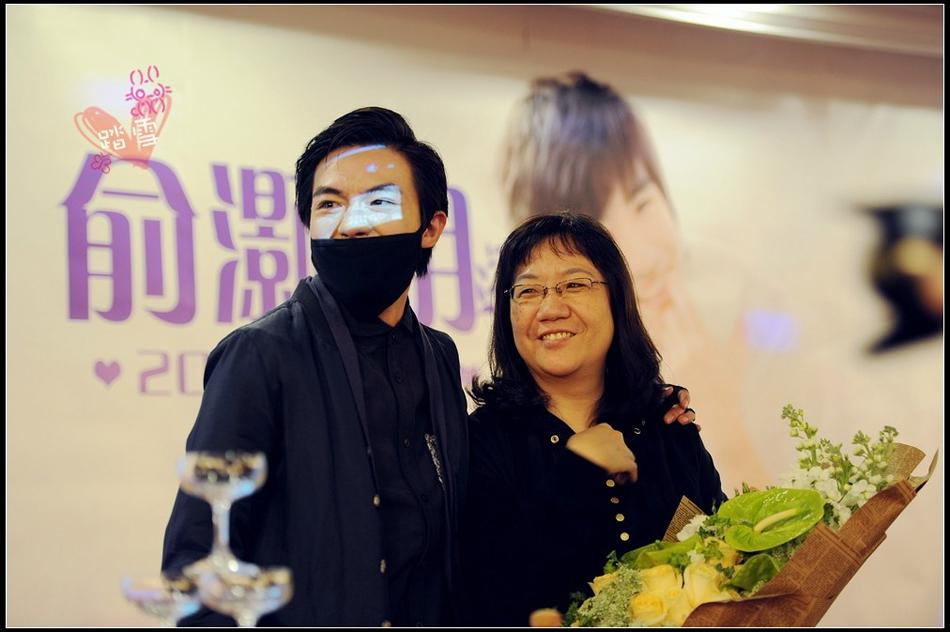NONE: (584, 178, 687, 327), (510, 267, 605, 368)
WRONG: (308, 186, 426, 304)
